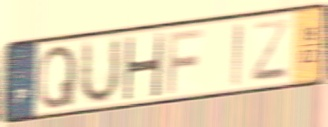F: (165, 26, 207, 96)
H: (121, 32, 166, 101)
I: (230, 21, 244, 89)
Q: (36, 42, 79, 112)
U: (77, 35, 123, 108)
Z: (250, 16, 291, 84)
